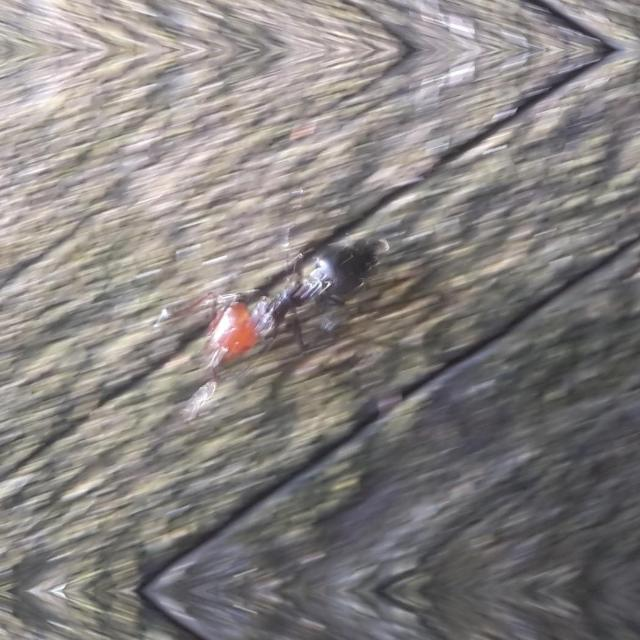Crematogaster: (173, 218, 387, 392)
